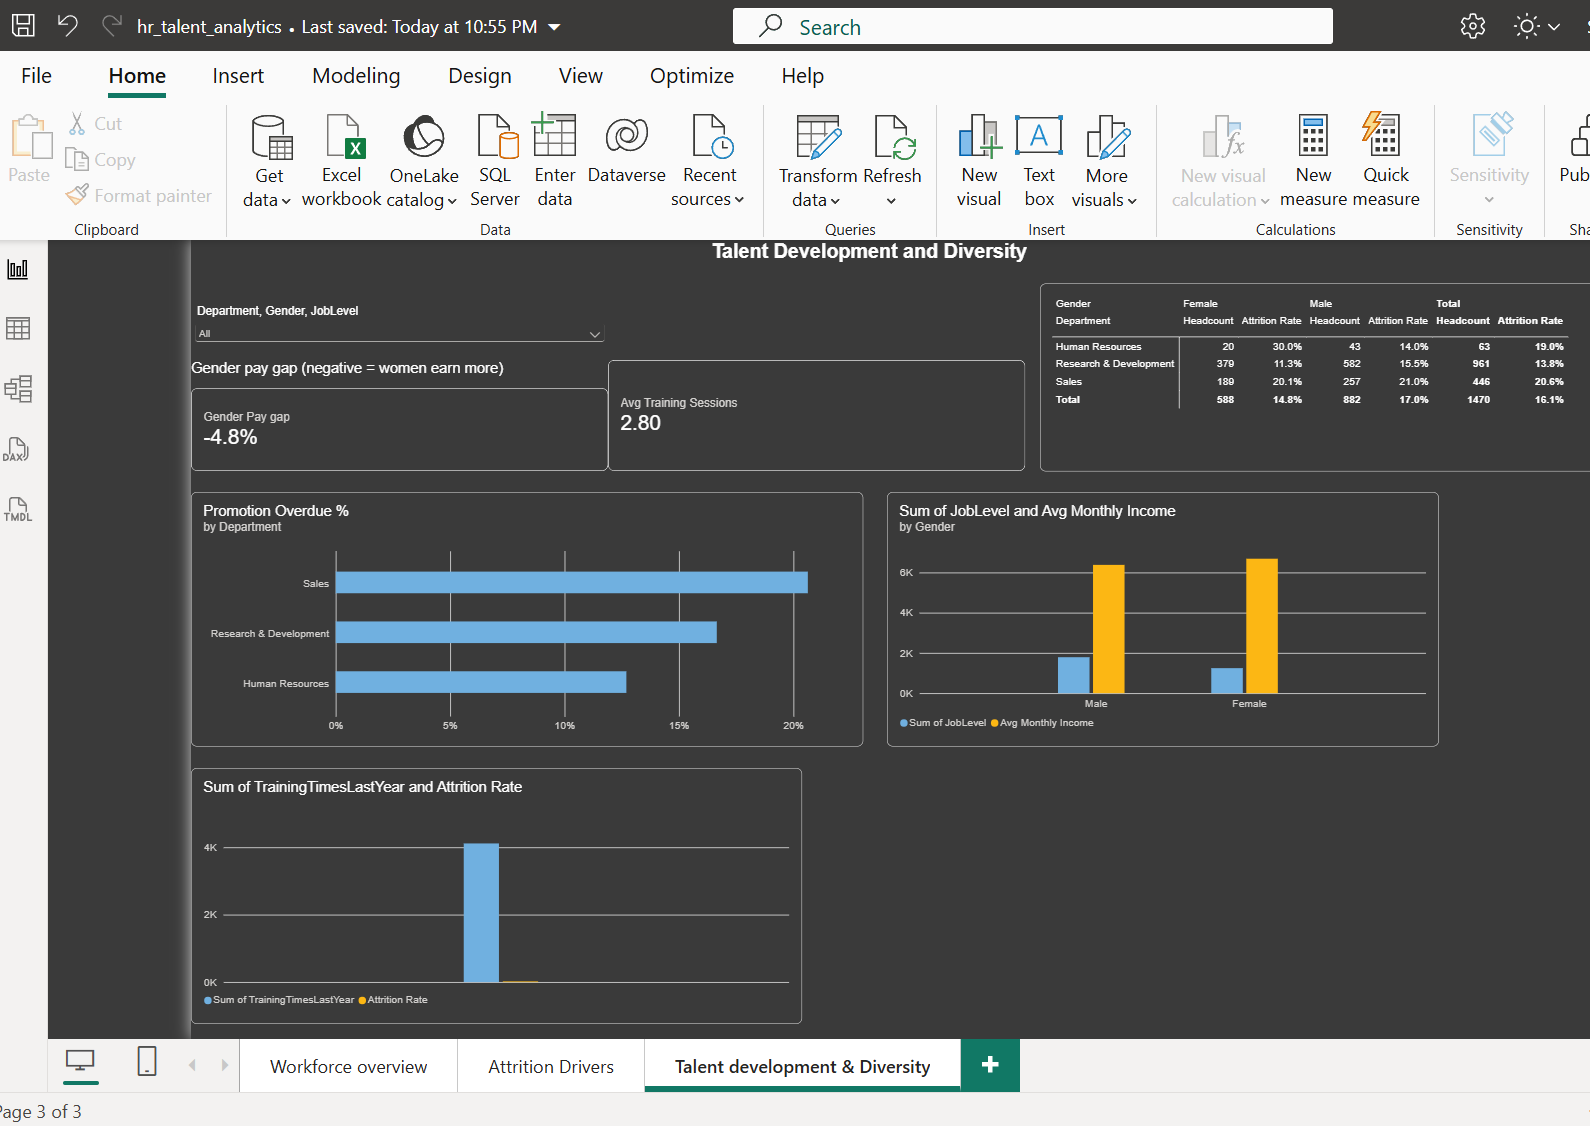

This screenshot's page, from the dashboard's own definition file:
{"tool":"powerbi","page":{"name":"Talent development & Diversity","canvas":[1920,1080],"ordinal":2},"visuals":[{"type":"slicer","fields":{"Values":["Employees.Department","Employees.Gender","Employees.JobLevel"]},"box":[0,87.1,564,150],"z":0},{"type":"textbox","box":[704.3,0,520,68.6],"z":1},{"type":"cardVisual","title":"Gender pay gap (negative = women earn more)","fields":{"Data":["Employees.Gender Pay gap"]},"box":[0,162.9,564,150],"z":2},{"type":"cardVisual","fields":{"Data":["Employees.Avg Training Sessions"]},"box":[564.3,162.9,564,150],"z":3},{"type":"clusteredBarChart","fields":{"Category":["Employees.Department"],"Y":["Employees.Promotion Overdue %"]},"box":[0,341.4,908.6,344.3],"z":4},{"type":"clusteredColumnChart","fields":{"Category":["Employees.Gender"],"Y":["Sum(Employees.JobLevel)","Employees.Avg Monthly Income"]},"box":[941.4,341.4,745.7,344.3],"z":5},{"type":"clusteredColumnChart","fields":{"Y":["Sum(Employees.TrainingTimesLastYear)","Employees.Attrition Rate"]},"box":[0,712.9,825.7,345.7],"z":6},{"type":"pivotTable","fields":{"Columns":["Employees.Gender"],"Rows":["Employees.Department"],"Values":["Employees.Headcount","Employees.Attrition Rate"]},"box":[1147.1,58.6,761.4,254.3],"z":7}]}

Visuals, with their boxes on the page's 1920x1080 design canvas (x1, y1, x2, y2). These are canvas units, not pixel positions in the 1590x1126 screenshot, which may show the page scaled, cropped or inside an application window:
slicer - Employees.Department x Employees.Gender: <bbox>0, 87, 564, 237</bbox>
textbox: <bbox>704, 0, 1224, 69</bbox>
"Gender pay gap (negative = women earn more)" cardVisual: <bbox>0, 163, 564, 313</bbox>
cardVisual - Employees.Avg Training Sessions: <bbox>564, 163, 1128, 313</bbox>
clusteredBarChart - Employees.Department x Employees.Promotion Overdue %: <bbox>0, 341, 909, 686</bbox>
clusteredColumnChart - Employees.Gender x Sum(Employees.JobLevel): <bbox>941, 341, 1687, 686</bbox>
clusteredColumnChart - Sum(Employees.TrainingTimesLastYear) x Employees.Attrition Rate: <bbox>0, 713, 826, 1059</bbox>
pivotTable - Employees.Gender x Employees.Department: <bbox>1147, 59, 1908, 313</bbox>
